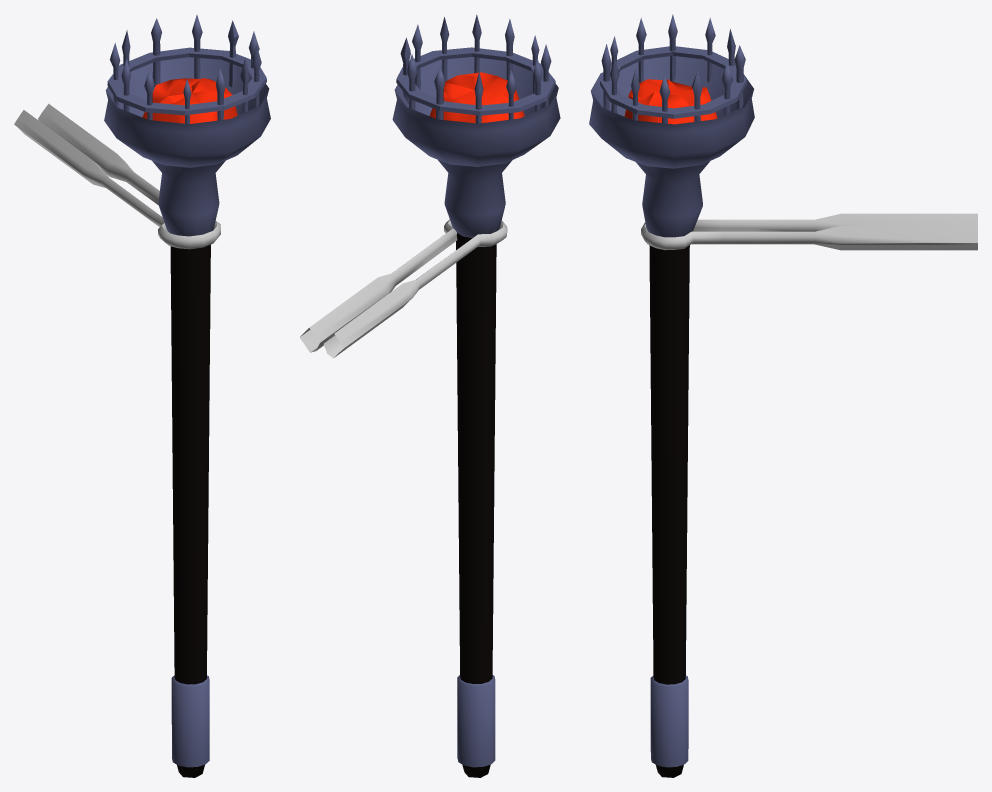
Rendered from TorchWall_21.fbx.
3 renders of one model, left to right at view 1: azimuth 30°, elevation 25°; view 2: azimuth 150°, elevation 25°; view 3: azimuth 270°, elevation 25°, orthographic.
Visible parts, largest first — view 1: TorchWall_21; view 2: TorchWall_21; view 3: TorchWall_21.
Part boxes in pixels (x1,y1,x2,y2): TorchWall_21: [14, 15, 270, 777]; TorchWall_21: [299, 14, 560, 777]; TorchWall_21: [589, 14, 977, 777].
Size of the model in its own units: 13.6 by 31.72 by 65.9.
